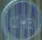bike lane: (3, 0, 40, 39)
